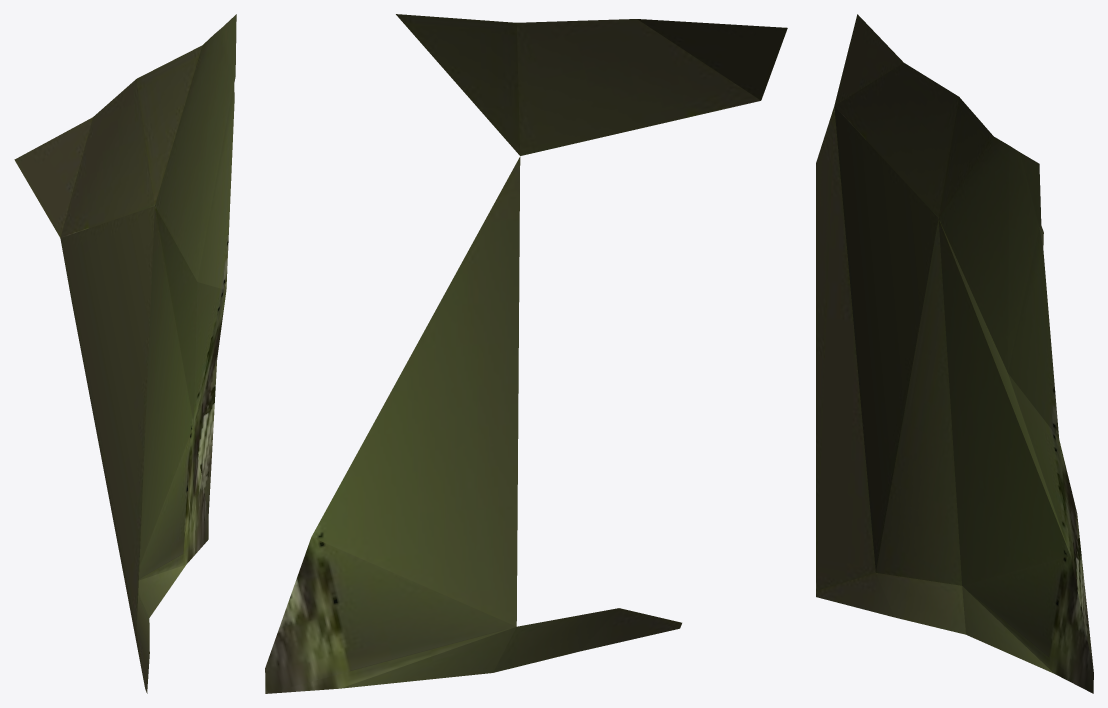
The picture shows the model from 3 angles, left to right: view 1: azimuth 30°, elevation 25°; view 2: azimuth 150°, elevation 25°; view 3: azimuth 270°, elevation 25°; orthographic projection. The views are drawn at different scales.
Size of the model in its own units: 1.79 by 2.95 by 1.4.
2 materials, 2 textured.
